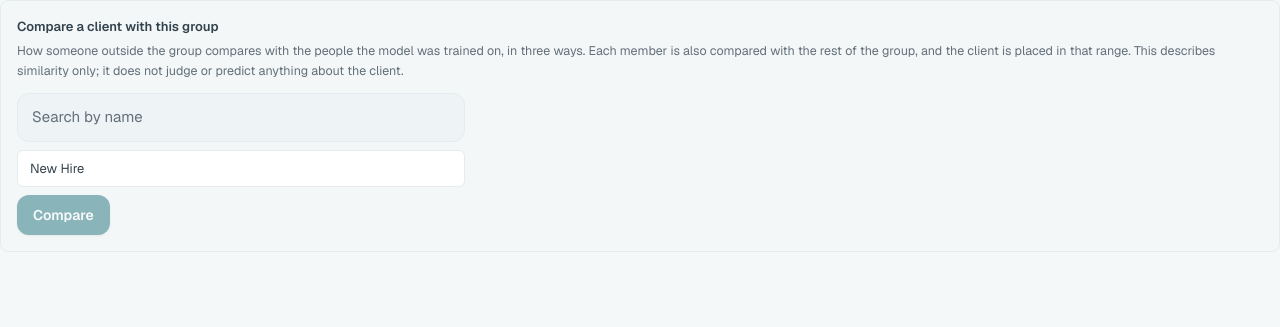
MlGroupFit › shows the service's refusal
The width and height of the screenshot is (1280, 327).
What coordinates should you click on to do the following:
click the option "New Hire"
I would click on:
 (57, 168)
Its box is [18, 151, 464, 186].
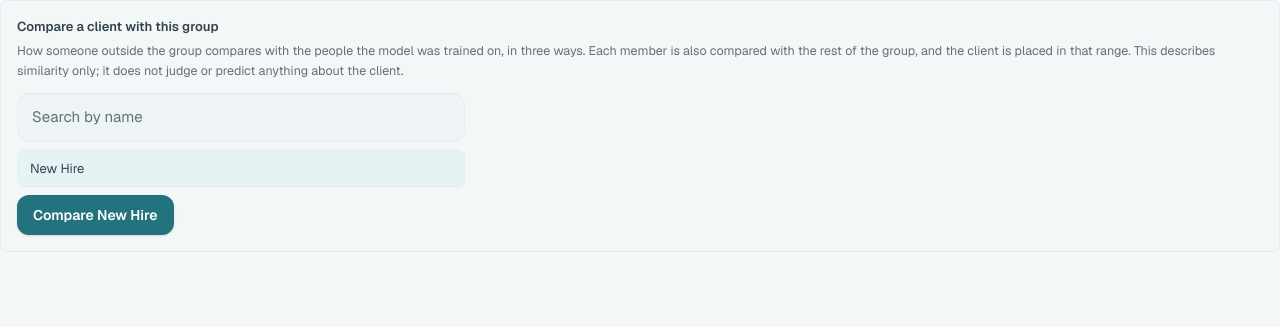
What coordinates should you click on to do the following:
click the button "Compare New Hire"
I would click on:
 (95, 215)
Its box is [17, 195, 174, 235].
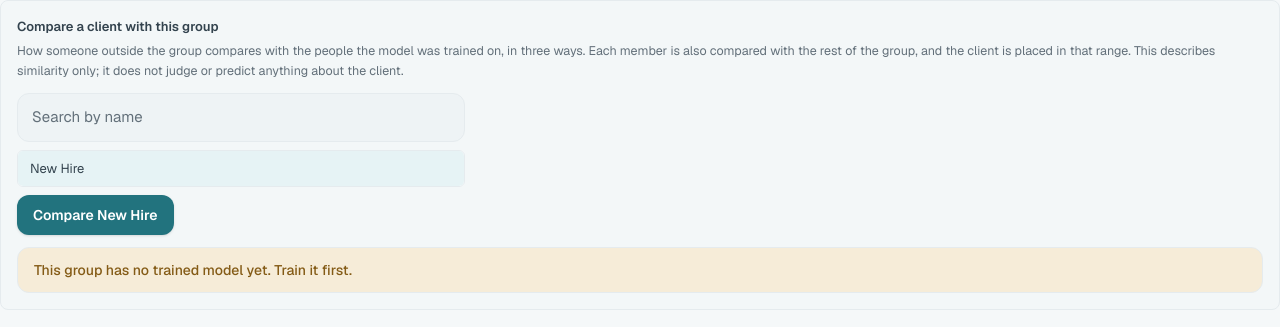
expect the text "This group has no trained model yet. Train it first." is shown: met, box [17, 247, 1263, 293]
